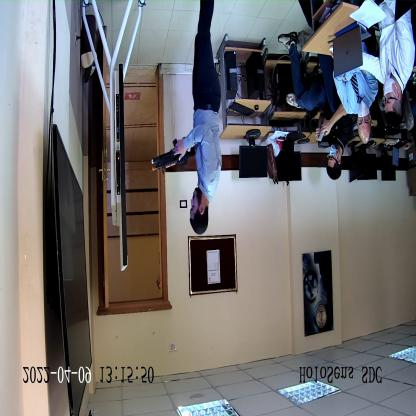handgun: (155, 137, 196, 174)
